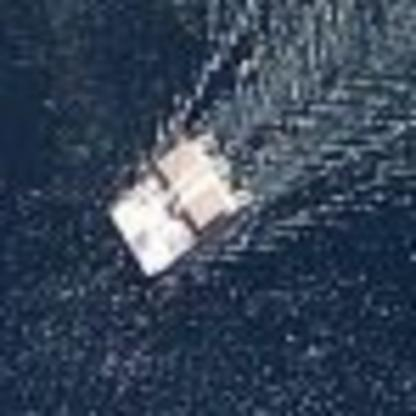ship: (98, 124, 249, 283)
